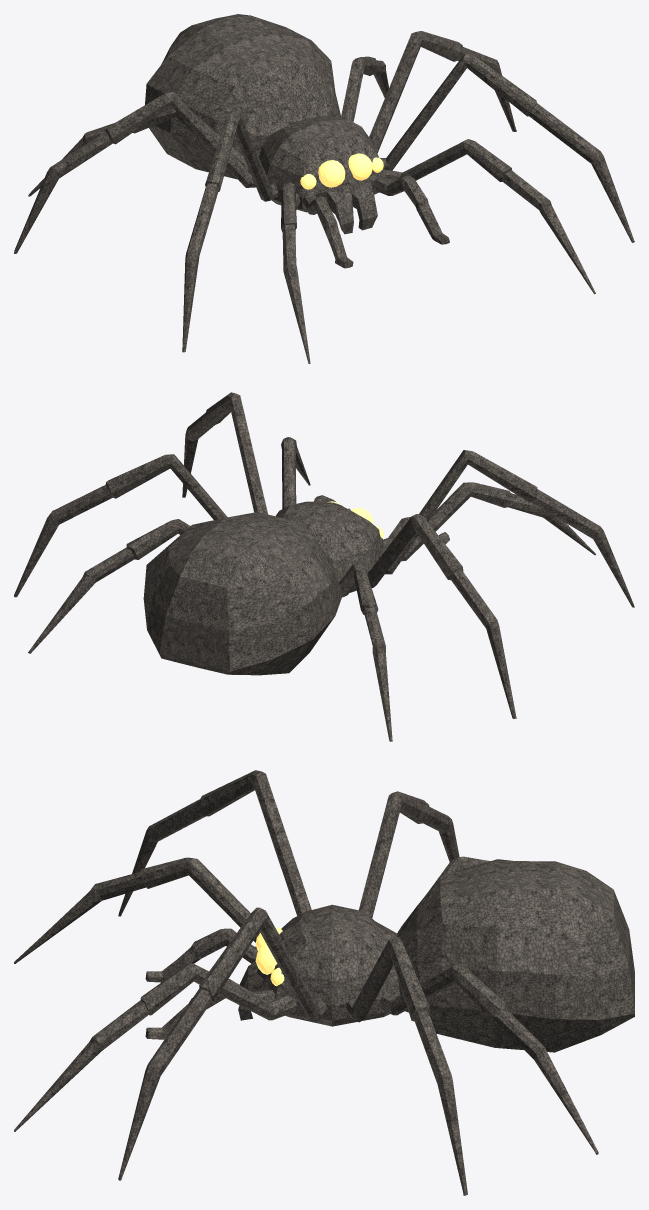
Rendered from cave_spider_v1.glb.
The picture shows the model from 3 angles, top to bottom: view 1: azimuth 30°, elevation 25°; view 2: azimuth 150°, elevation 25°; view 3: azimuth 270°, elevation 25°; orthographic projection. The views are drawn at different scales.
Parts seen in each view (by area): view 1: body, leg_l0, leg_r0, leg_r1, leg_r3, leg_l1, leg_r2; view 2: body, leg_r0, leg_r3, leg_l0, leg_r2, leg_l3, leg_l2; view 3: body, leg_l0, leg_r0, leg_r3, leg_l2, leg_l1, leg_l3.
Part boxes in pixels (<box>): body: <box>14,14,634,363</box>; leg_l0: <box>383,139,551,211</box>; leg_r0: <box>281,183,300,272</box>; leg_r1: <box>182,258,198,350</box>; leg_r3: <box>29,115,355,194</box>; leg_l1: <box>326,157,633,241</box>; leg_r2: <box>14,139,362,252</box>; body: <box>14,392,634,741</box>; leg_r0: <box>382,482,550,561</box>; leg_r3: <box>283,501,392,740</box>; leg_l0: <box>281,437,297,508</box>; leg_r2: <box>448,576,516,717</box>; leg_l3: <box>29,577,93,652</box>; leg_l2: <box>14,493,115,596</box>; body: <box>14,770,634,1195</box>; leg_l0: <box>89,963,297,1050</box>; leg_r0: <box>89,857,260,942</box>; leg_r3: <box>299,914,365,940</box>; leg_l2: <box>411,1015,467,1193</box>; leg_l1: <box>118,928,282,1179</box>; leg_l3: <box>539,1053,598,1153</box>.
Size of the model in its own units: 0.95 by 0.3119 by 0.8433.
2 materials, 1 textured.
